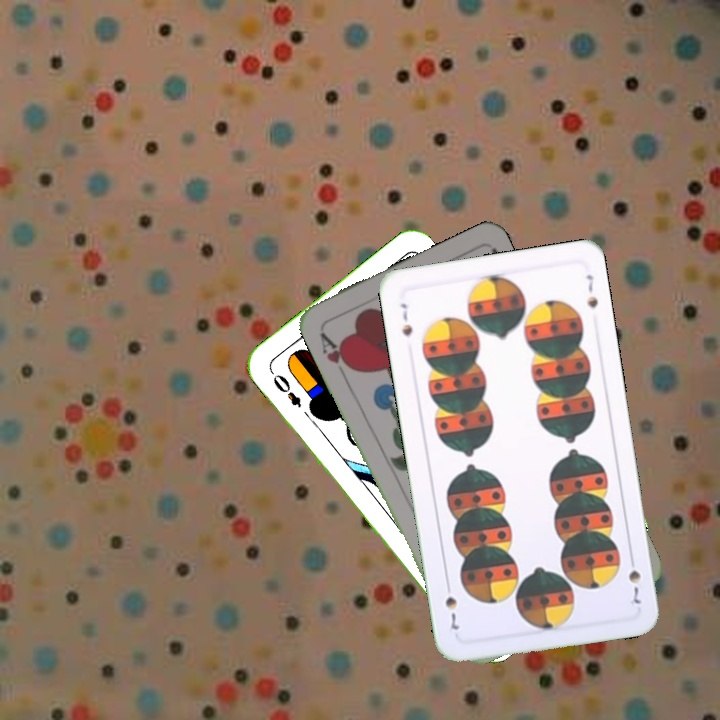EO: (266, 366, 304, 410)
HA: (316, 328, 357, 381)
S7: (624, 550, 644, 609), (396, 299, 415, 339)
